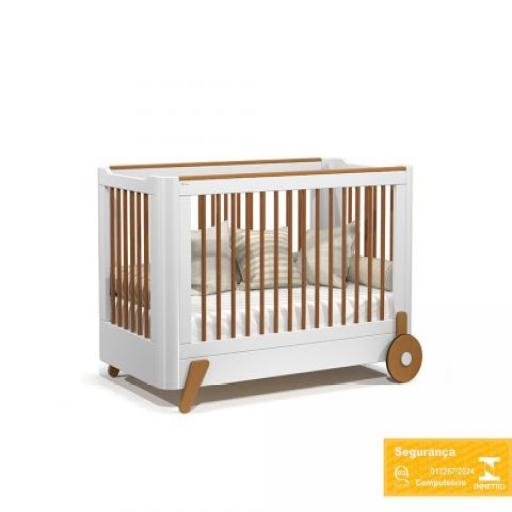crib: (98, 158, 422, 414)
